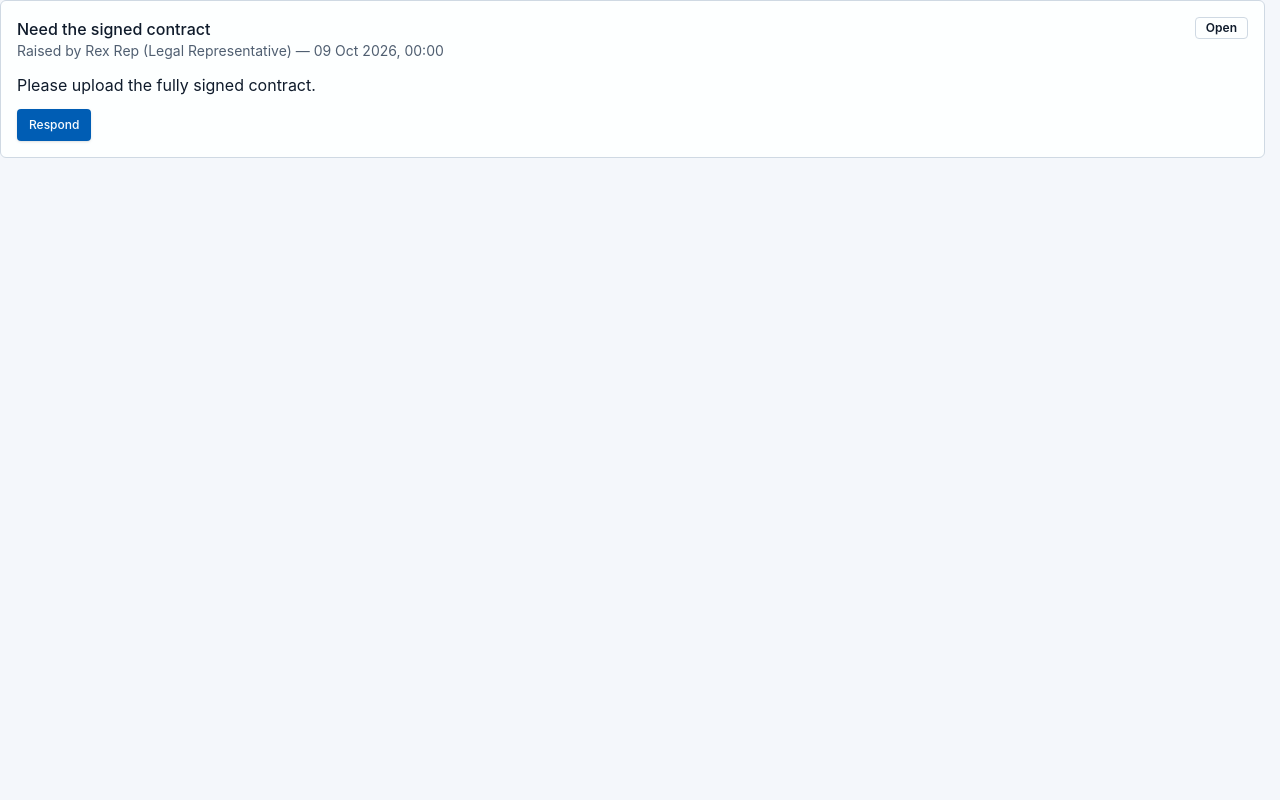
Test: RequestsTab › a backend 400 on respond shows the field message
Click the button "Respond". click: {"x": 54, "y": 125}
box: x1=17 y1=109 x2=91 y2=141
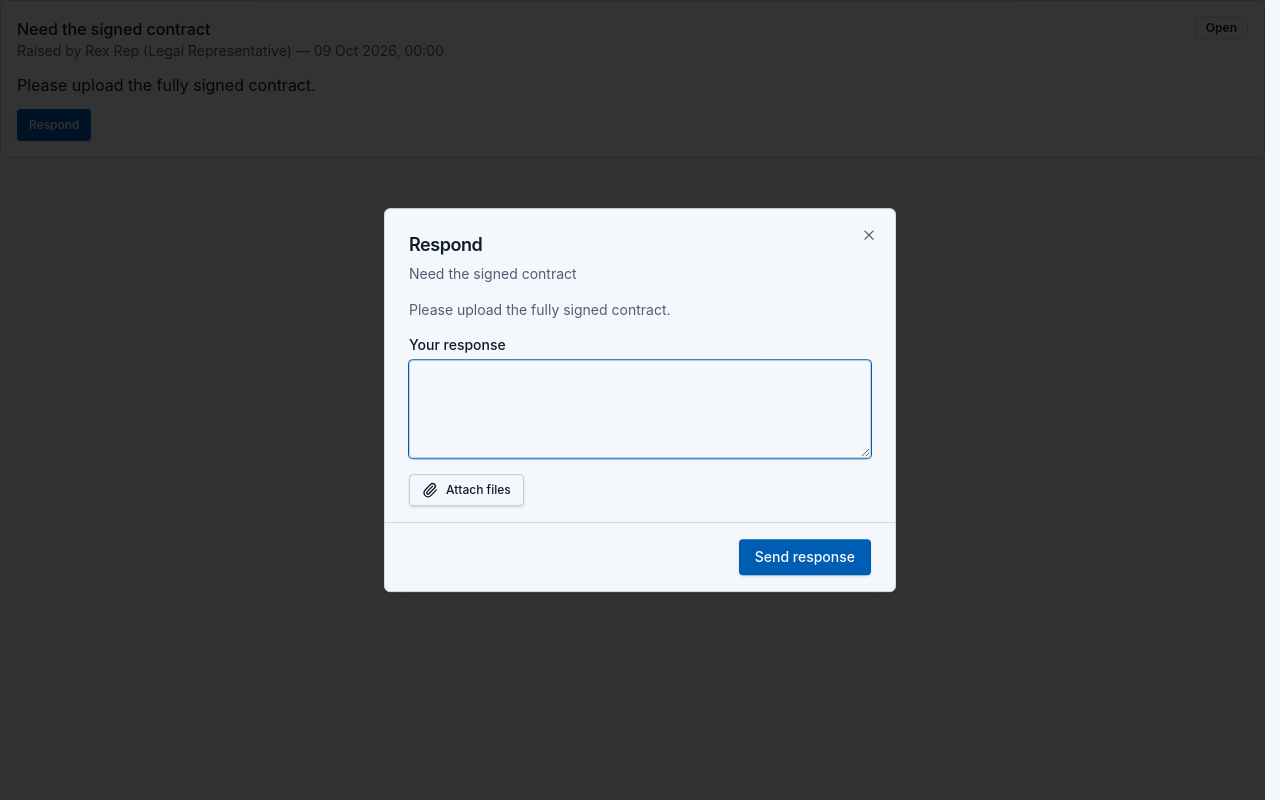
Type "a response" into the text box labelled "Your response". click: {"x": 640, "y": 409}
box: x1=409 y1=360 x2=871 y2=458
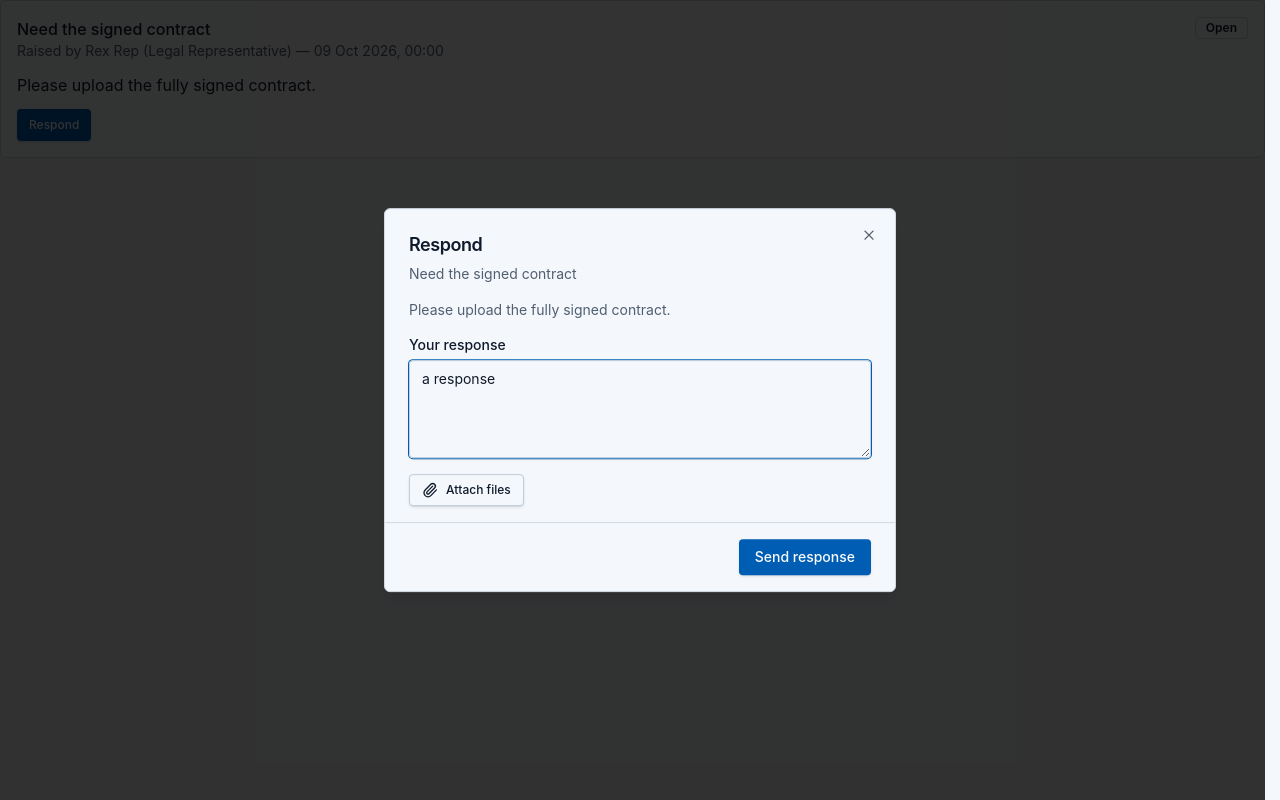
Click the button "Send response". click: {"x": 805, "y": 557}
box: x1=739 y1=539 x2=871 y2=575
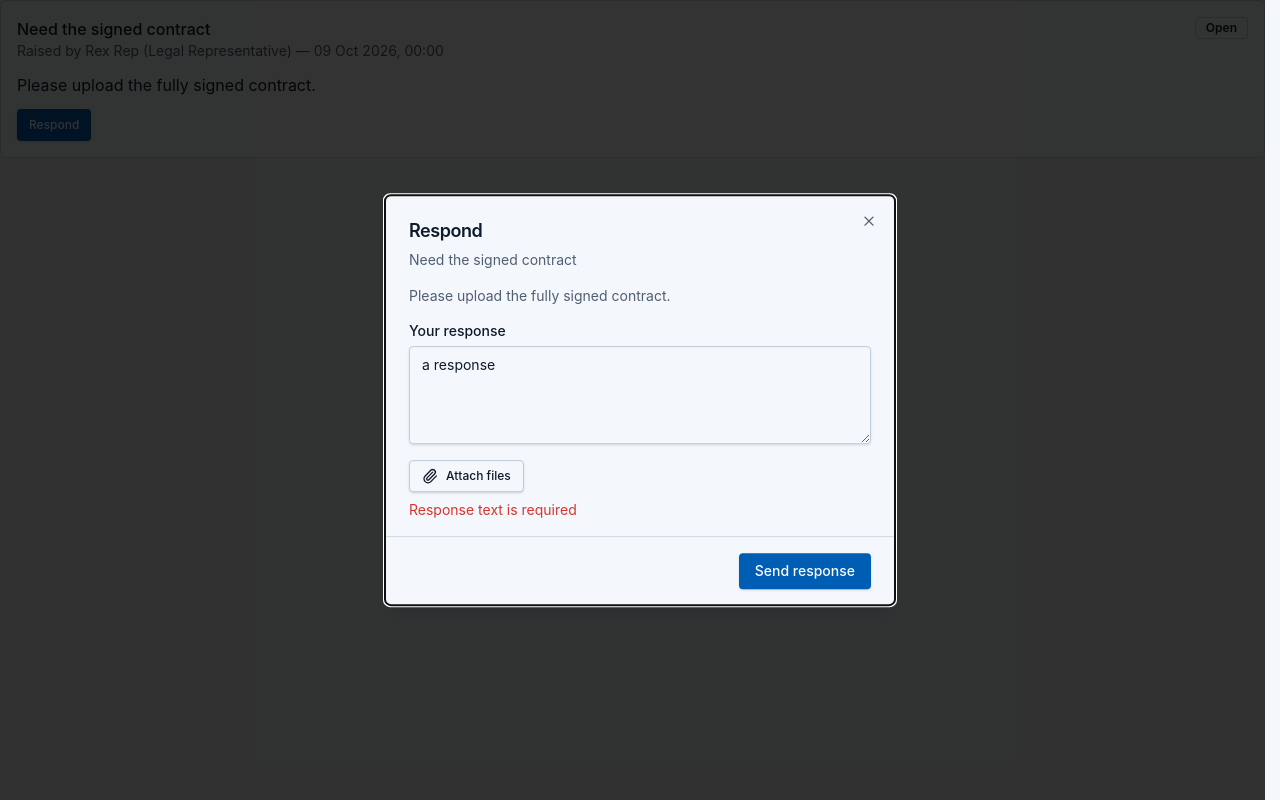
Check: the text "Response text is required" is shown, box x1=409 y1=501 x2=577 y2=518
